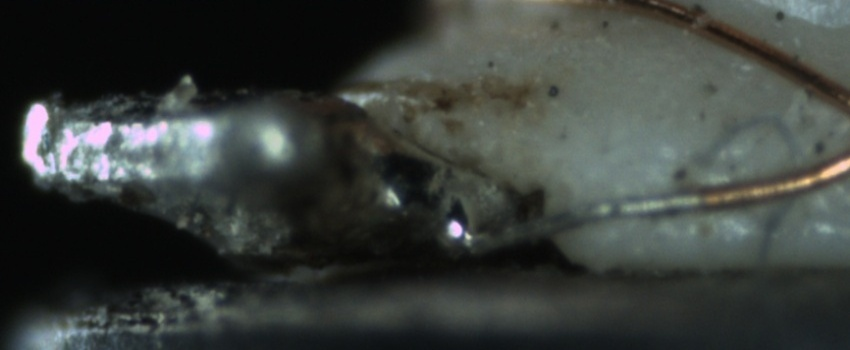TS: (476, 193, 702, 253)
